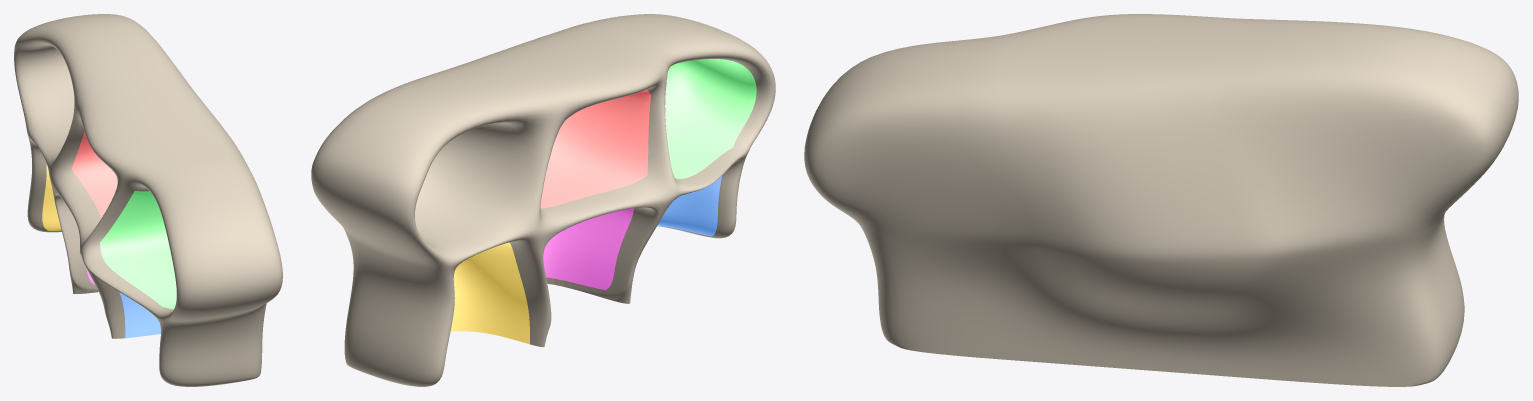
The model's file is reserve_emissive_mat_mesh.fbx.
3 renders of one model, left to right at view 1: azimuth 30°, elevation 25°; view 2: azimuth 150°, elevation 25°; view 3: azimuth 270°, elevation 25°, orthographic. The views are drawn at different scales.
Visible parts, largest first — view 1: Cube.002; view 2: Cube.002; view 3: Cube.002.
Boxes of the visible parts, x1,y1,x2,y2 form: Cube.002: (14, 14, 282, 386); Cube.002: (311, 14, 775, 386); Cube.002: (804, 14, 1518, 386).
Bounding box in the file's own units: 459 × 477 × 990.
